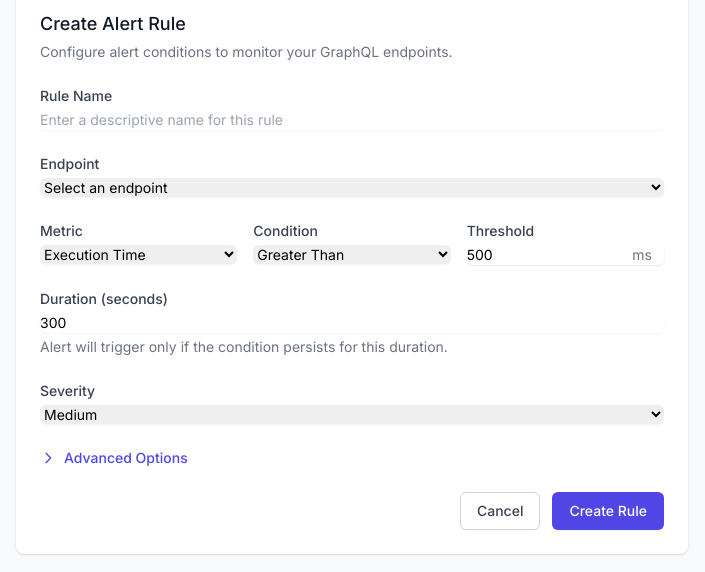
AlertRuleForm › Metric-specific Configuration › should show appropriate units for response size metric
Select "Response Size" in the dropdown with test id "metric-select" at (139, 254), box x1=40 y1=245 x2=237 y2=264
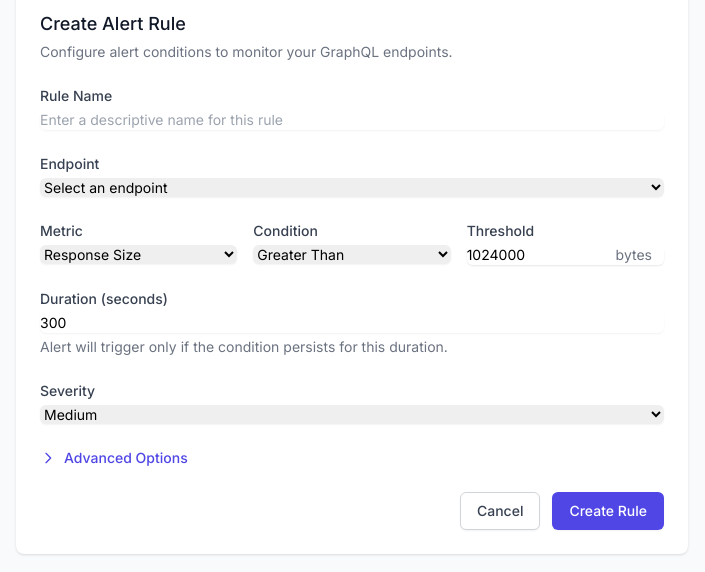
Expected: the text "bytes" is shown, x1=616 y1=245 x2=652 y2=265
Expected: the text with test id "threshold-unit" reads "bytes", x1=616 y1=246 x2=652 y2=263
